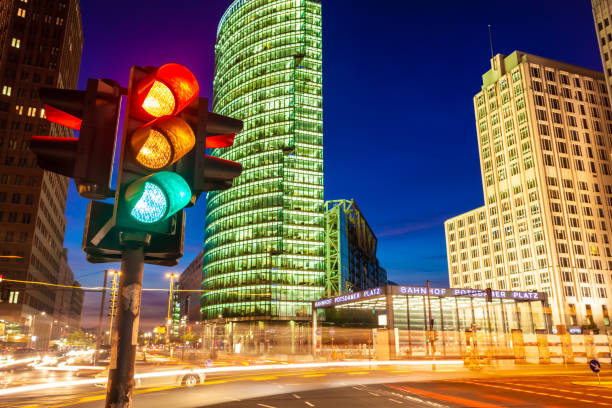Traffic Signal: (22, 68, 113, 200)
